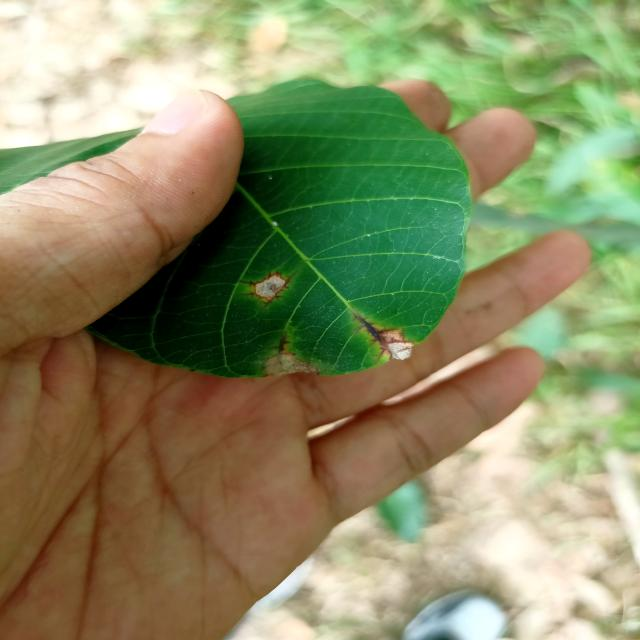Corynespora: (351, 311, 409, 362), (236, 270, 295, 306), (271, 333, 292, 354)
Leaf-Blight: (264, 354, 319, 376), (254, 275, 286, 300), (390, 342, 412, 360)
